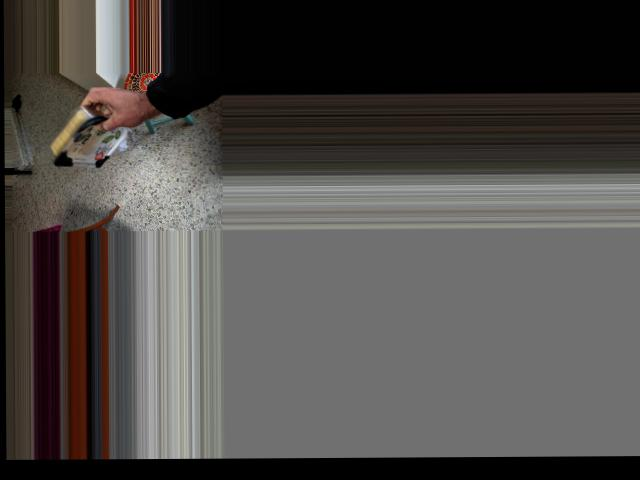cheese: (30, 81, 124, 191)
